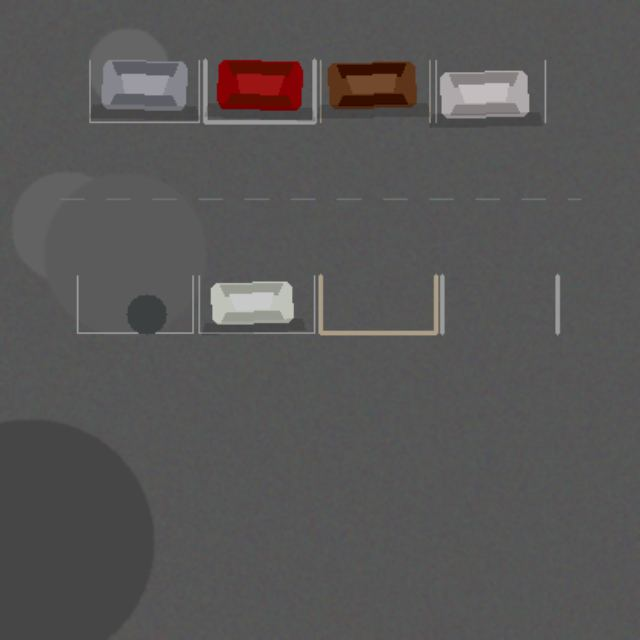space-empty: (77, 275, 192, 332), (320, 275, 435, 332), (442, 275, 557, 332)
space-occupied: (435, 60, 545, 122), (89, 60, 198, 122), (205, 60, 314, 122), (320, 60, 429, 122), (198, 275, 314, 332)
